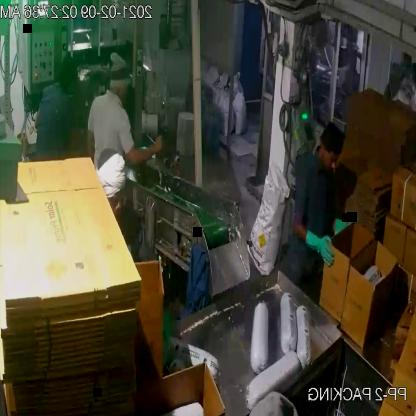glove: (300, 225, 340, 265), (332, 213, 359, 240)
no_glove: (123, 127, 168, 172)
